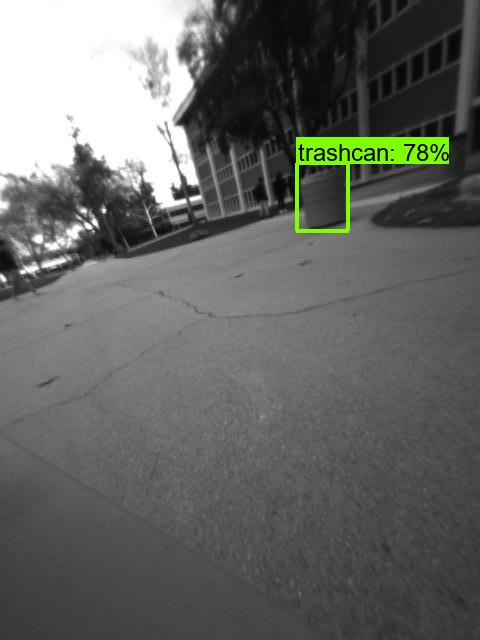trashcan: (297, 165, 348, 234), (430, 129, 469, 179)
